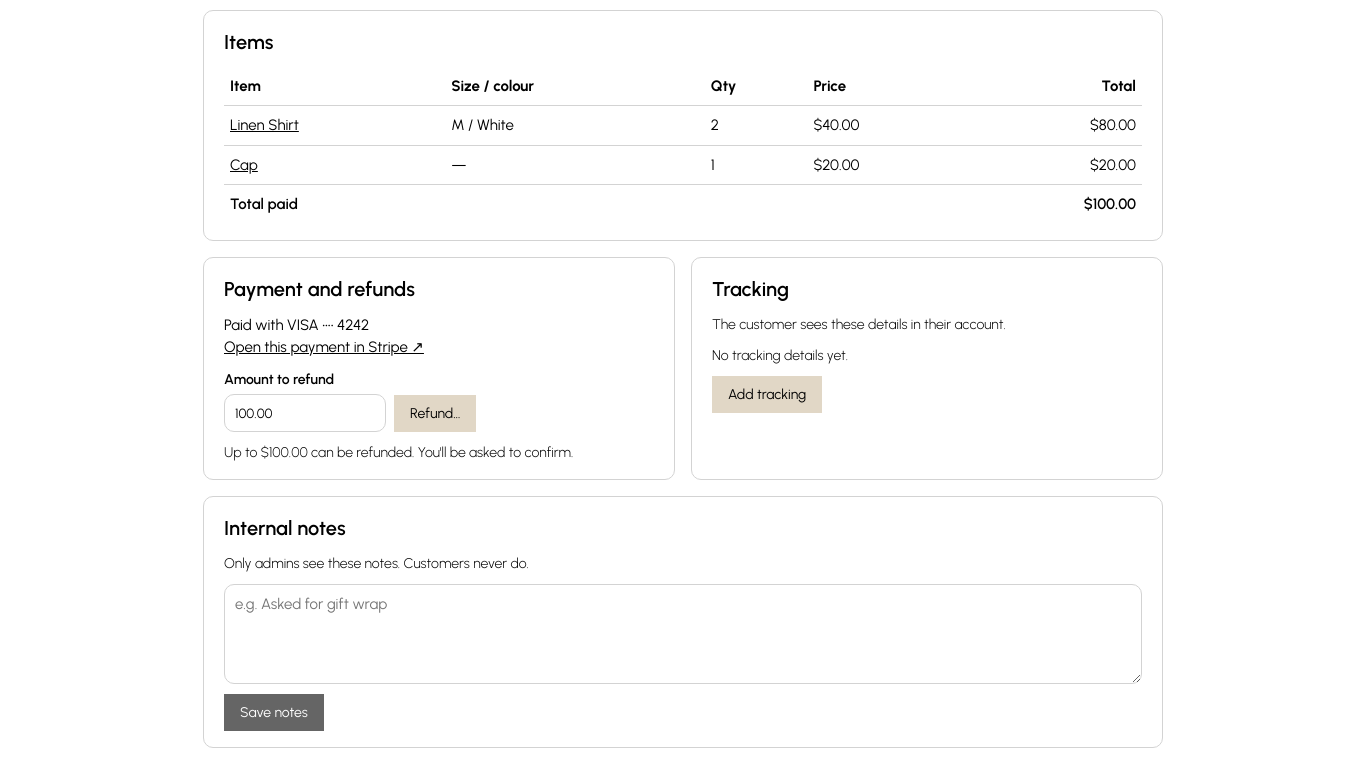
it: AdminOrderDetail › saves internal notes
(page scrolled)
Expected: the button "Save notes" is disabled, [224, 694, 324, 730]
Type "Gift wrap" into the text box named "Notes for this order" at [683, 634], box [224, 584, 1142, 684]
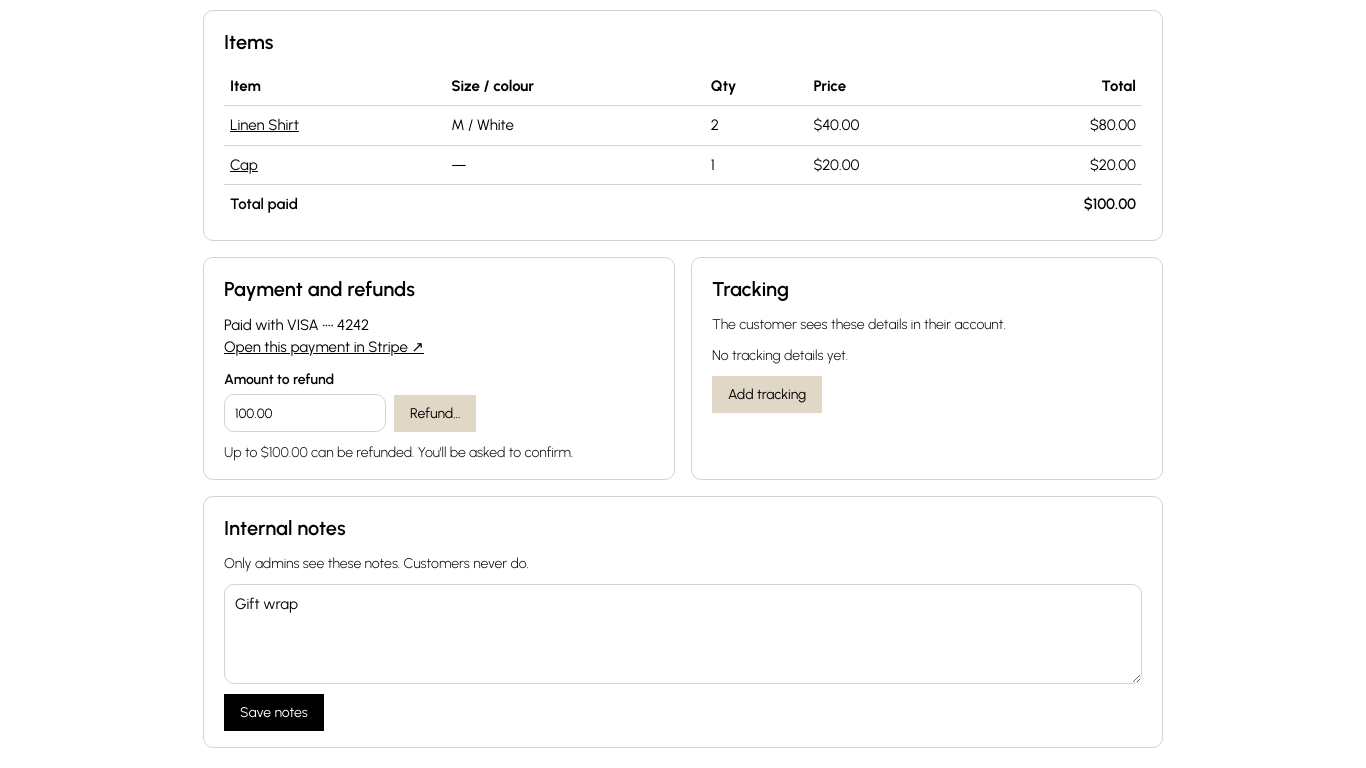
Click the button "Save notes" at [274, 712], box [224, 694, 324, 730]
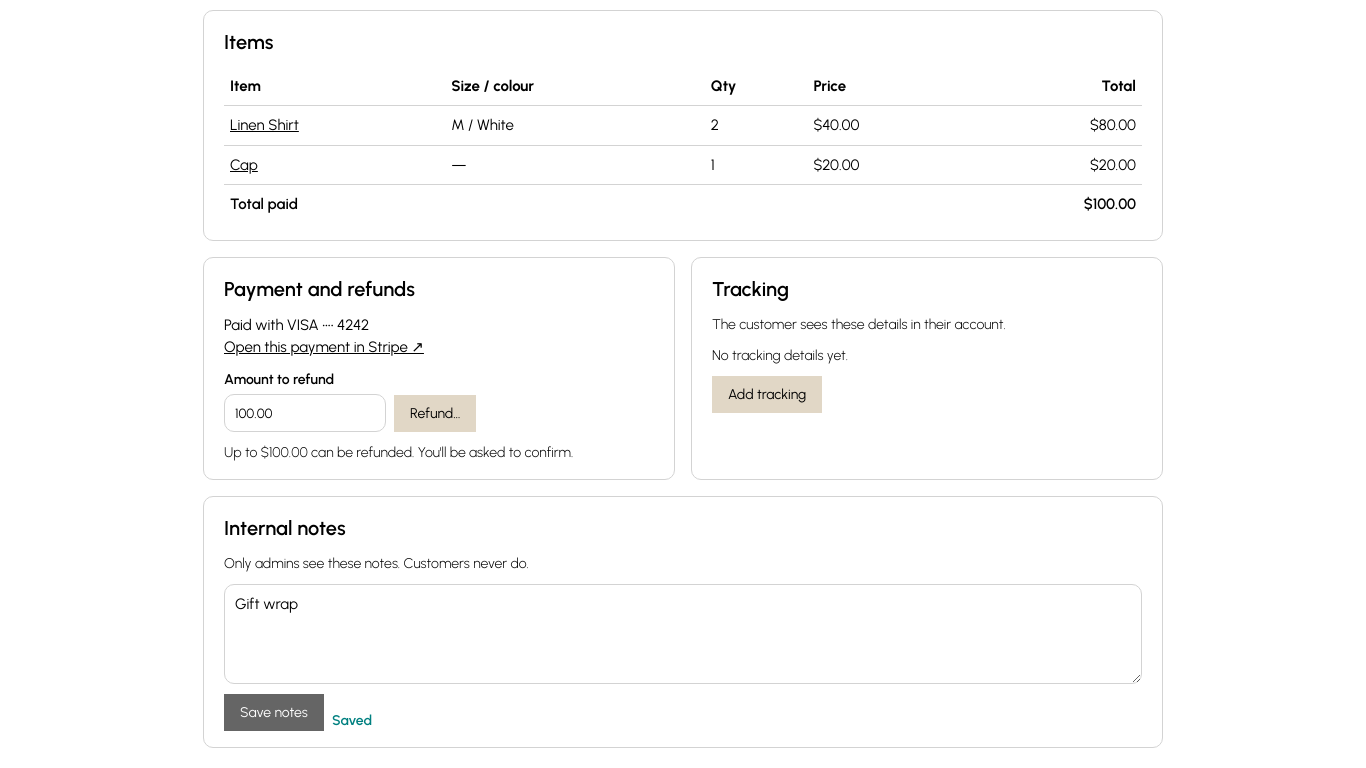
Expected: the text "Saved" is shown, [332, 710, 372, 730]
